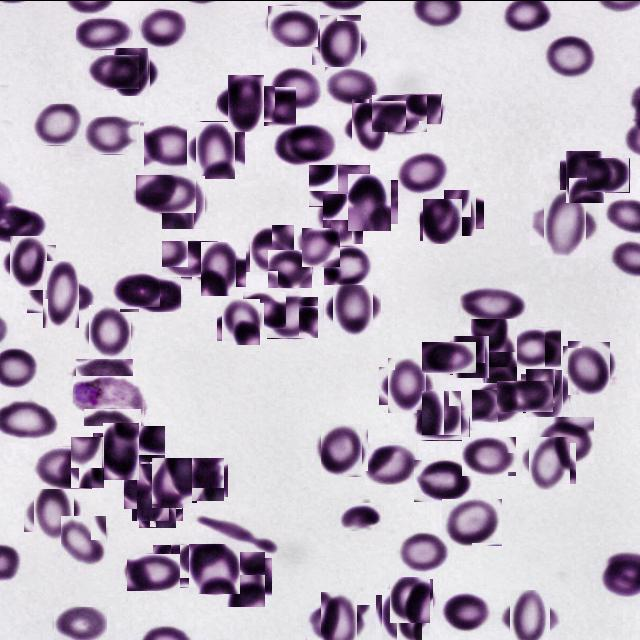red blood cell: (536, 195, 592, 251), (466, 322, 522, 378), (442, 498, 503, 546), (144, 122, 205, 168), (460, 284, 528, 324), (35, 268, 87, 320), (272, 123, 336, 165), (537, 416, 594, 462), (309, 164, 371, 206), (189, 543, 240, 594), (33, 446, 93, 489), (543, 34, 600, 79), (316, 18, 366, 68), (344, 176, 394, 226), (191, 124, 240, 174), (29, 486, 78, 536), (414, 459, 472, 501), (153, 544, 208, 587), (120, 274, 182, 312), (85, 307, 134, 355), (220, 554, 269, 602), (268, 67, 322, 110), (566, 342, 614, 390), (328, 283, 376, 331), (318, 425, 366, 473), (378, 590, 426, 638), (136, 174, 196, 212), (159, 178, 207, 225), (248, 225, 296, 272), (394, 151, 449, 192), (506, 594, 555, 640), (59, 516, 108, 562), (365, 442, 418, 484), (98, 427, 145, 474), (222, 80, 270, 126), (462, 436, 517, 476), (441, 590, 491, 634), (33, 103, 85, 145), (267, 296, 319, 338), (472, 380, 524, 422), (83, 116, 140, 154), (384, 362, 431, 408), (526, 439, 572, 486), (325, 66, 380, 105), (372, 94, 428, 132), (563, 152, 609, 198), (6, 240, 52, 286), (320, 195, 366, 241), (148, 459, 194, 505), (162, 240, 219, 277), (314, 598, 364, 640), (510, 327, 562, 367), (347, 103, 392, 149), (135, 478, 180, 524), (396, 532, 450, 570), (268, 5, 318, 46), (244, 86, 296, 125), (130, 470, 176, 514), (196, 246, 242, 290), (127, 553, 180, 590), (76, 358, 133, 392), (388, 576, 432, 620), (324, 246, 373, 284), (523, 370, 566, 413), (422, 198, 464, 242), (54, 606, 108, 640), (497, 380, 554, 412), (112, 49, 154, 92), (66, 440, 108, 483), (87, 54, 139, 88), (421, 391, 463, 433), (220, 300, 262, 342), (422, 341, 477, 373), (268, 249, 313, 288), (140, 9, 186, 47), (76, 18, 131, 49), (120, 425, 166, 462), (417, 409, 470, 440), (392, 92, 442, 124), (451, 336, 491, 376), (243, 291, 286, 328), (114, 272, 160, 306), (440, 192, 480, 231), (187, 458, 226, 498), (587, 157, 630, 192), (302, 227, 340, 266), (339, 502, 381, 530)
trophozoite: (73, 375, 145, 426)
